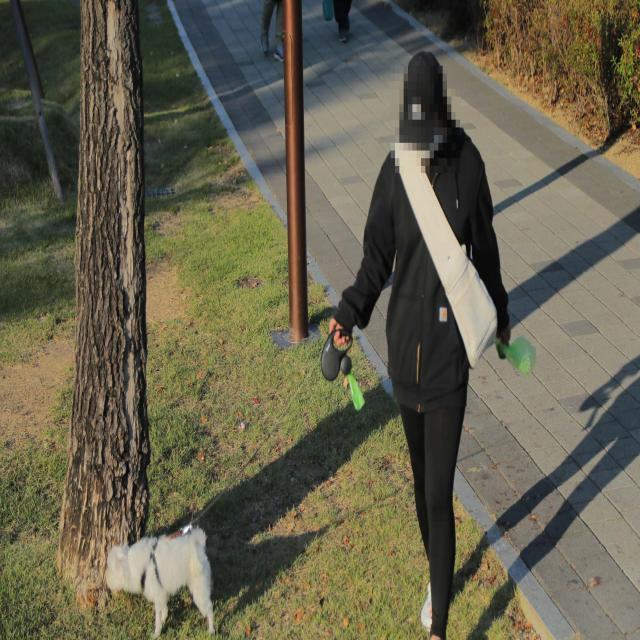Leashed_Dog: (106, 319, 421, 640)
